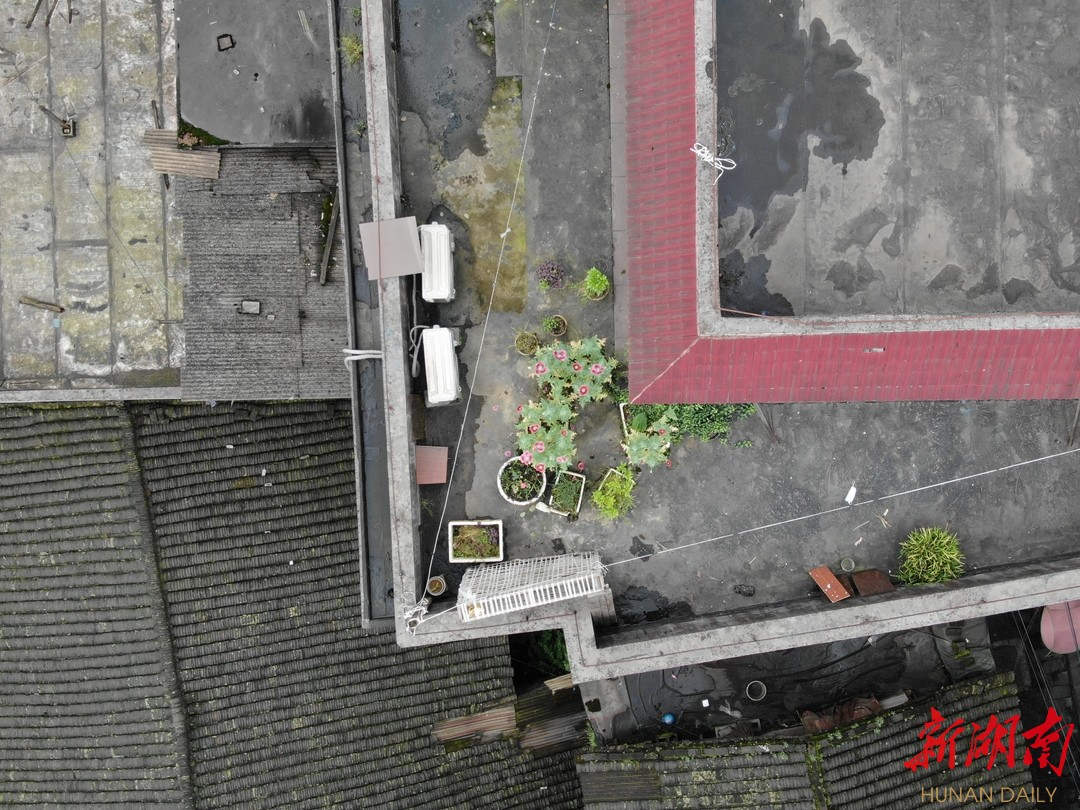Poppy: (510, 398, 588, 477), (528, 334, 620, 398)
